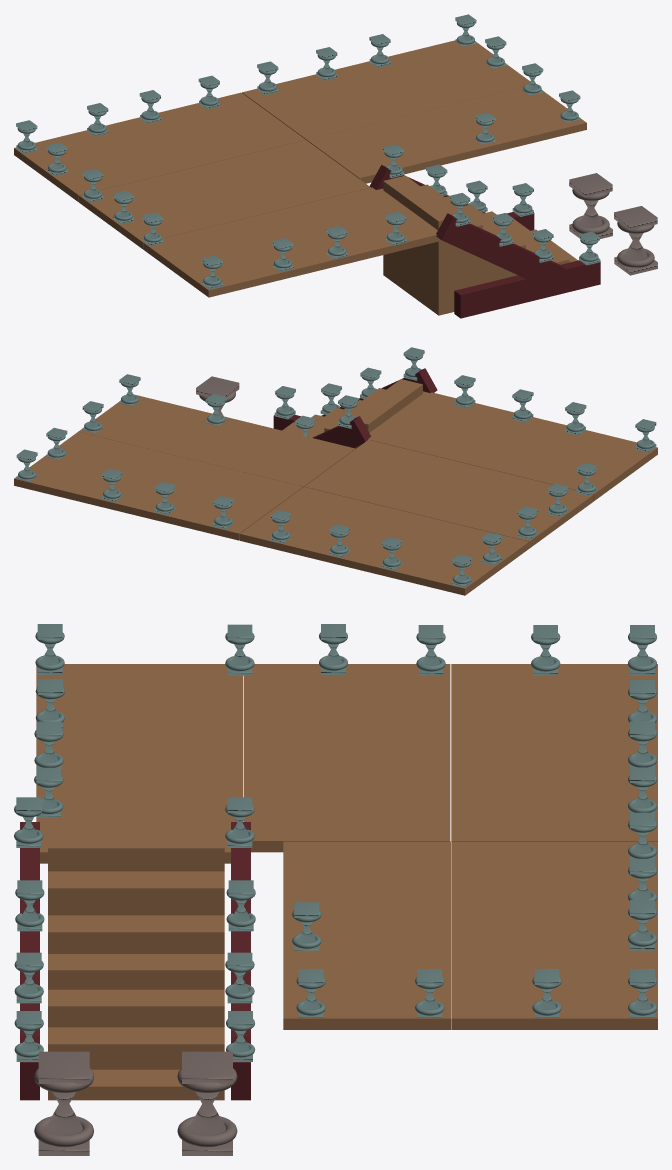
The model's file is staircase.fbx.
3 renders of one model, top to bottom at view 1: azimuth 30°, elevation 25°; view 2: azimuth 150°, elevation 25°; view 3: azimuth 270°, elevation 25°, orthographic. The views are drawn at different scales.
Parts seen in each view (by area): view 1: Cube.005; view 2: Cube.005; view 3: Cube.005.
Part boxes in pixels (x1,y1,x2,y2): Cube.005: (14,14,657,318); Cube.005: (14,347,657,595); Cube.005: (14,624,657,1155).
Bounding box in the file's own units: 36233 × 9366 × 27802.
